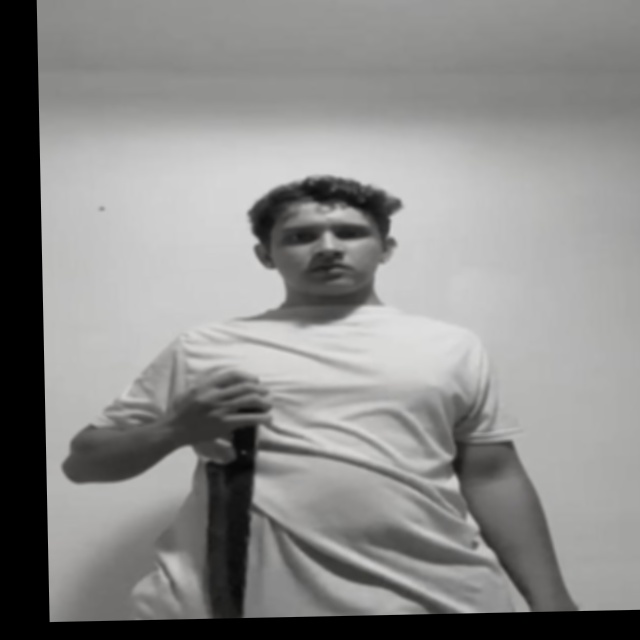Sharp-Object: (202, 458, 254, 619)
